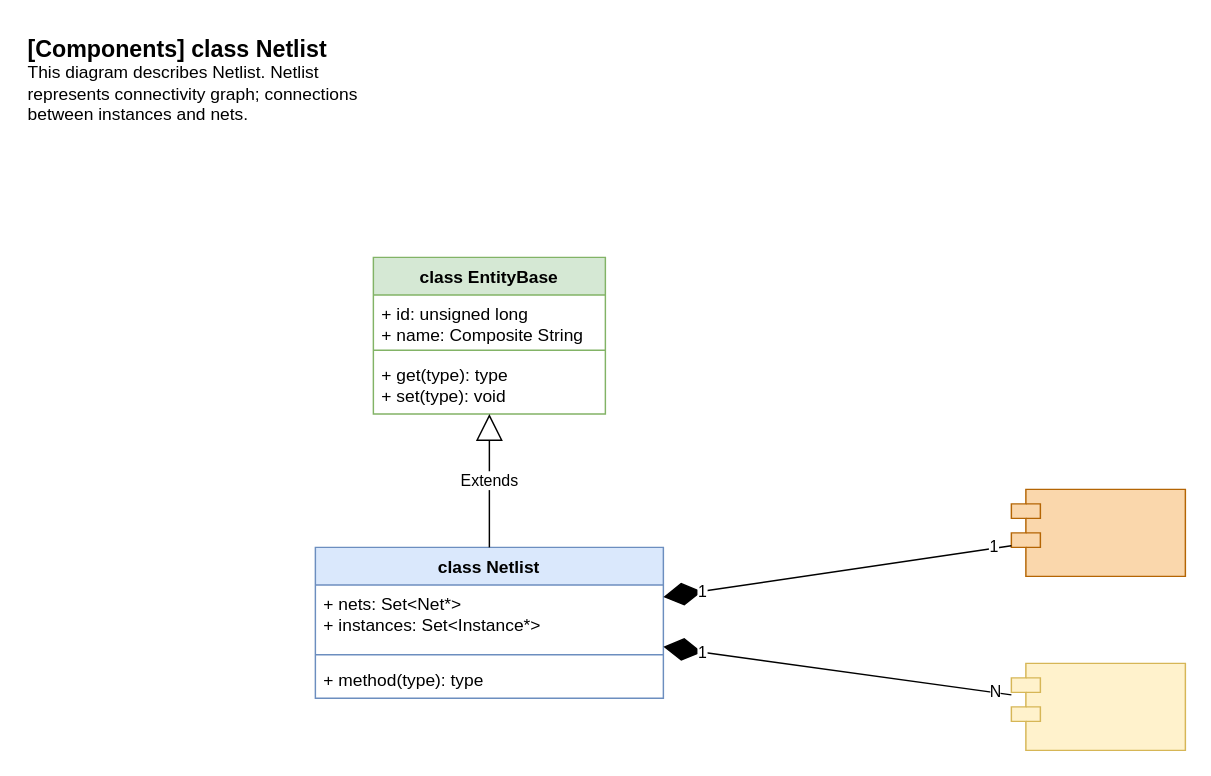
Image size: 1211x776. Some labels were removed from this diagram. Here are the shapes that lost their labels. From the top down, the centre of each, then its label:
At (1097,532): "Net".
At (1097,706): "Instance".
